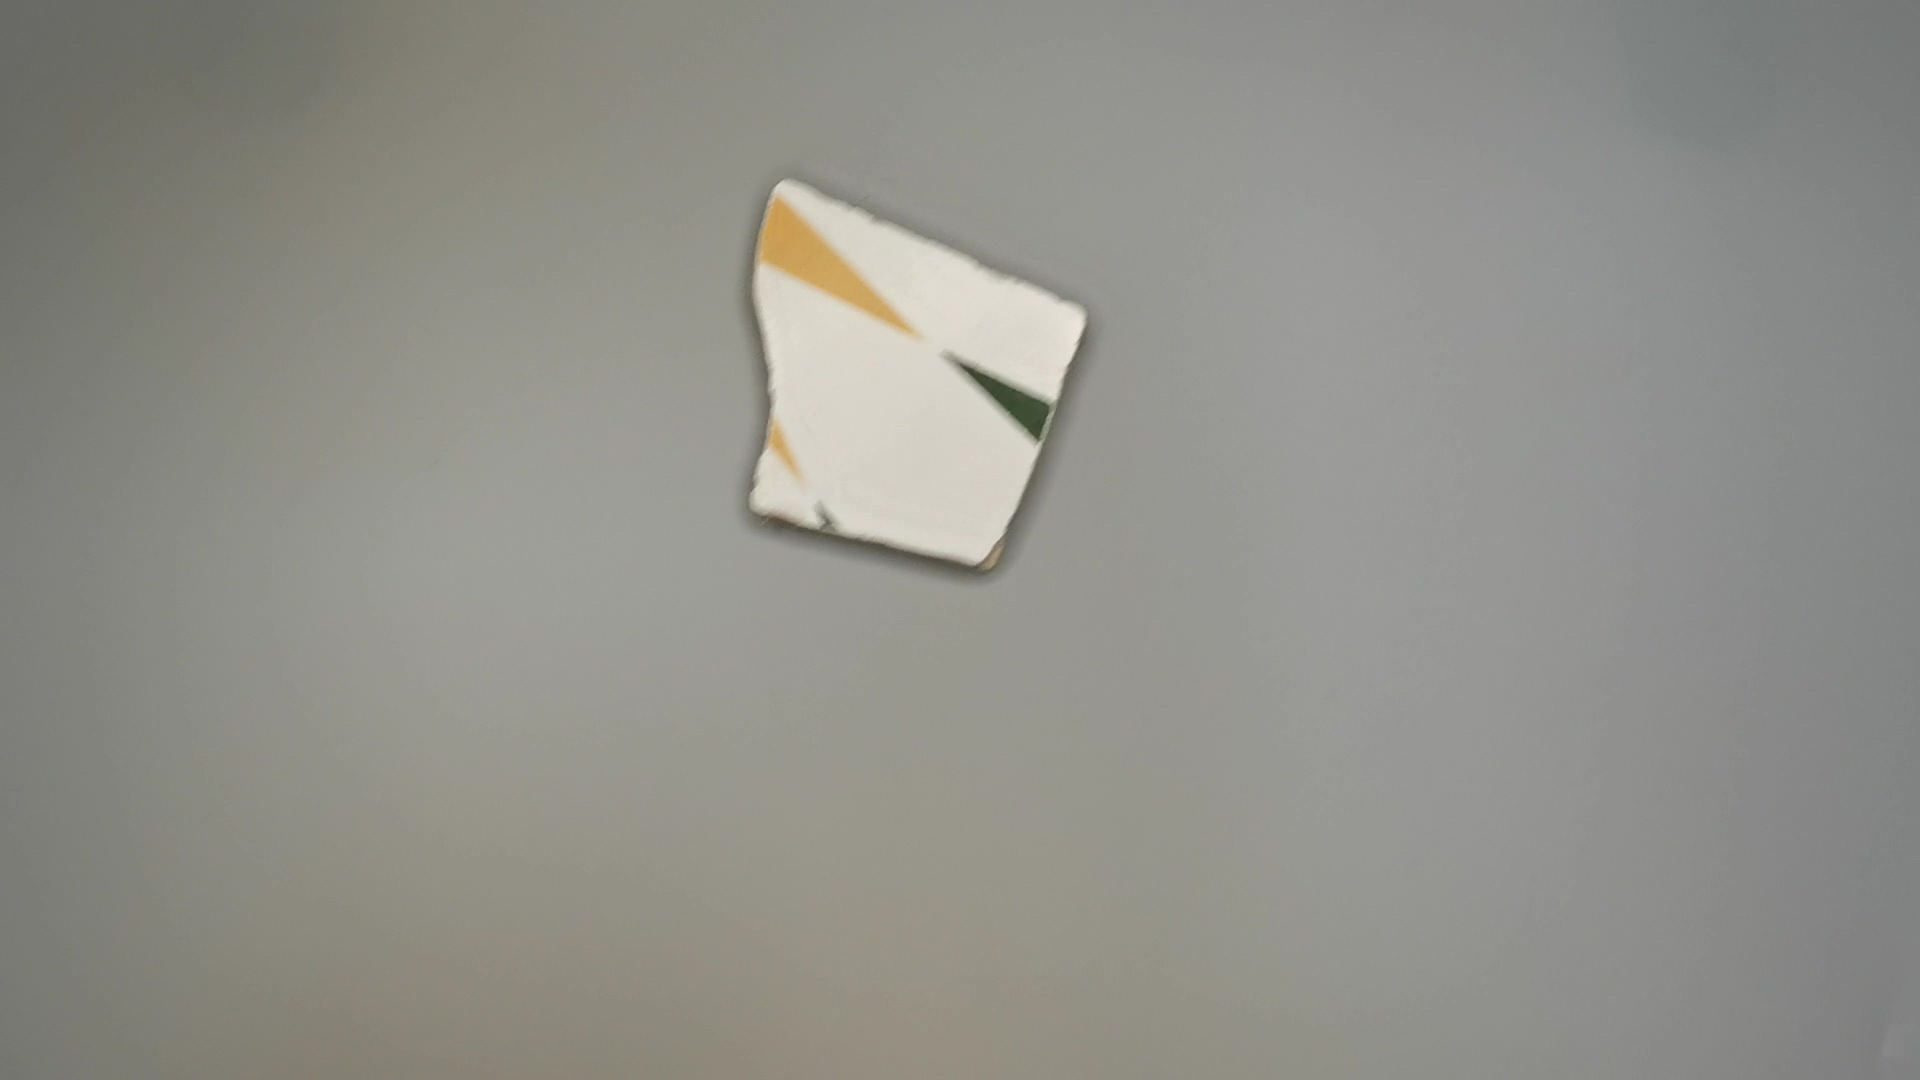ceramic: (725, 167, 1089, 583)
